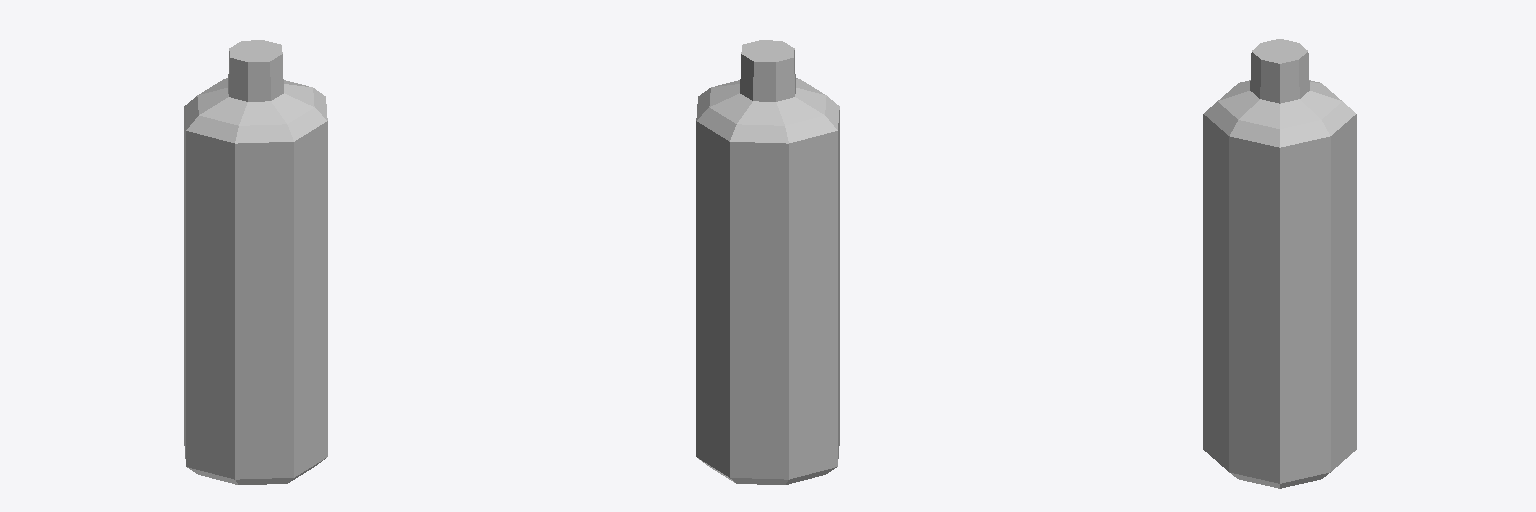
Rendered from Tanque_De_Oxigeno.obj.
The picture shows the model from 3 angles: view 1: azimuth 30°, elevation 25°; view 2: azimuth 150°, elevation 25°; view 3: azimuth 270°, elevation 25°; orthographic projection.
Parts seen in each view (by area): view 1: pCube26; view 2: pCube26; view 3: pCube26.
Part boxes in pixels (left/top/right/bottom): pCube26: left=184, top=40, right=327, bottom=484; pCube26: left=696, top=40, right=839, bottom=484; pCube26: left=1203, top=39, right=1356, bottom=488.
Size of the model in its own units: 19.76 by 55.31 by 18.75.